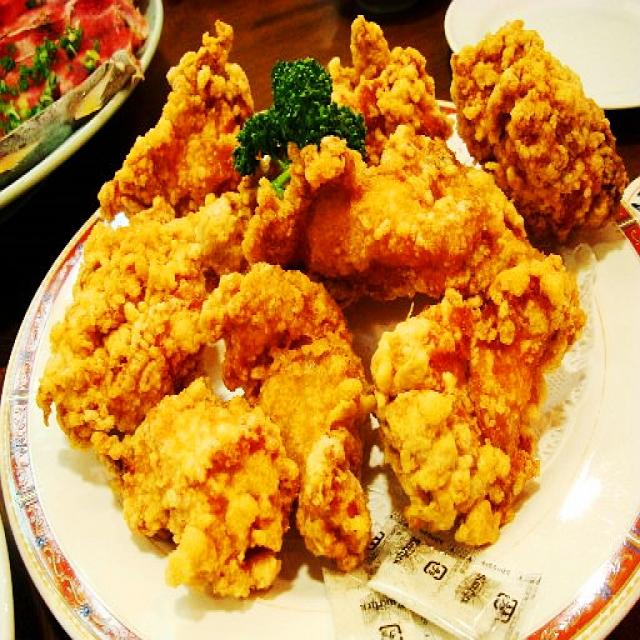鸡肉料理 含炸鸡: (32, 13, 622, 595)
